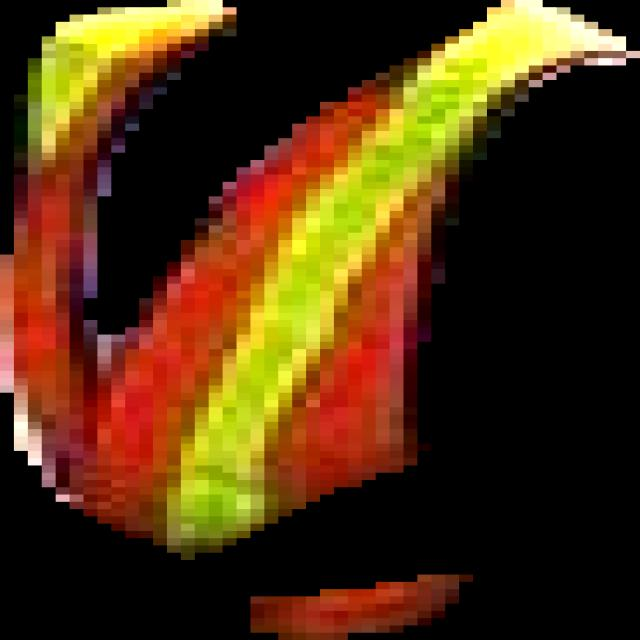Colete: (0, 0, 639, 559)
